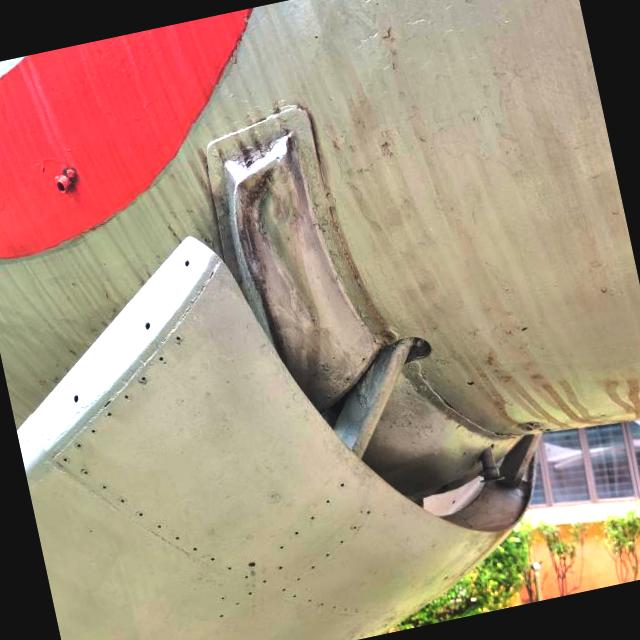dent: (203, 121, 360, 376)
